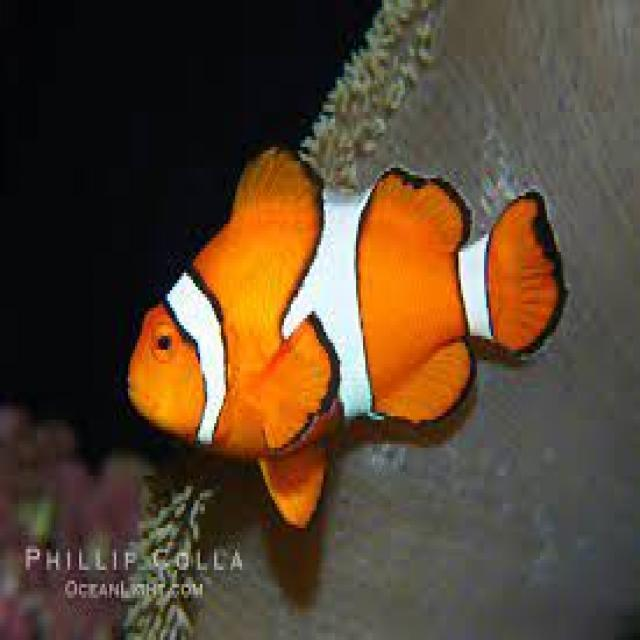ClownFish: (123, 144, 564, 526)
